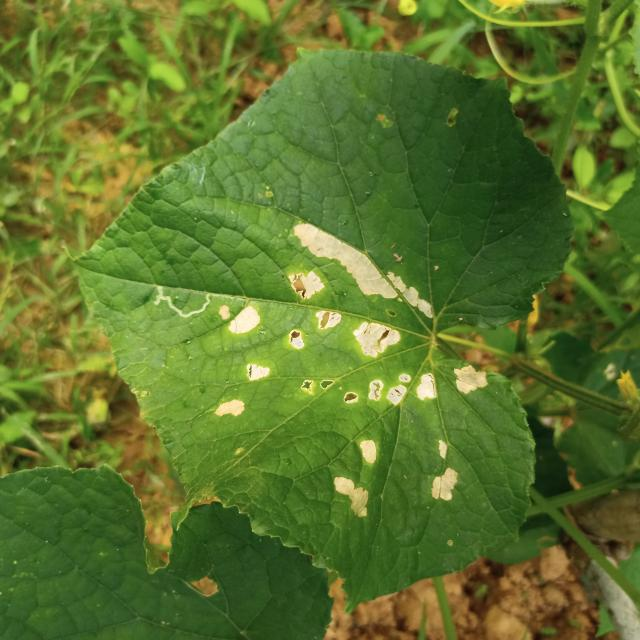disease_cucumber: (282, 220, 437, 362), (296, 360, 492, 417), (214, 299, 274, 428), (331, 434, 384, 520), (424, 438, 461, 518)
